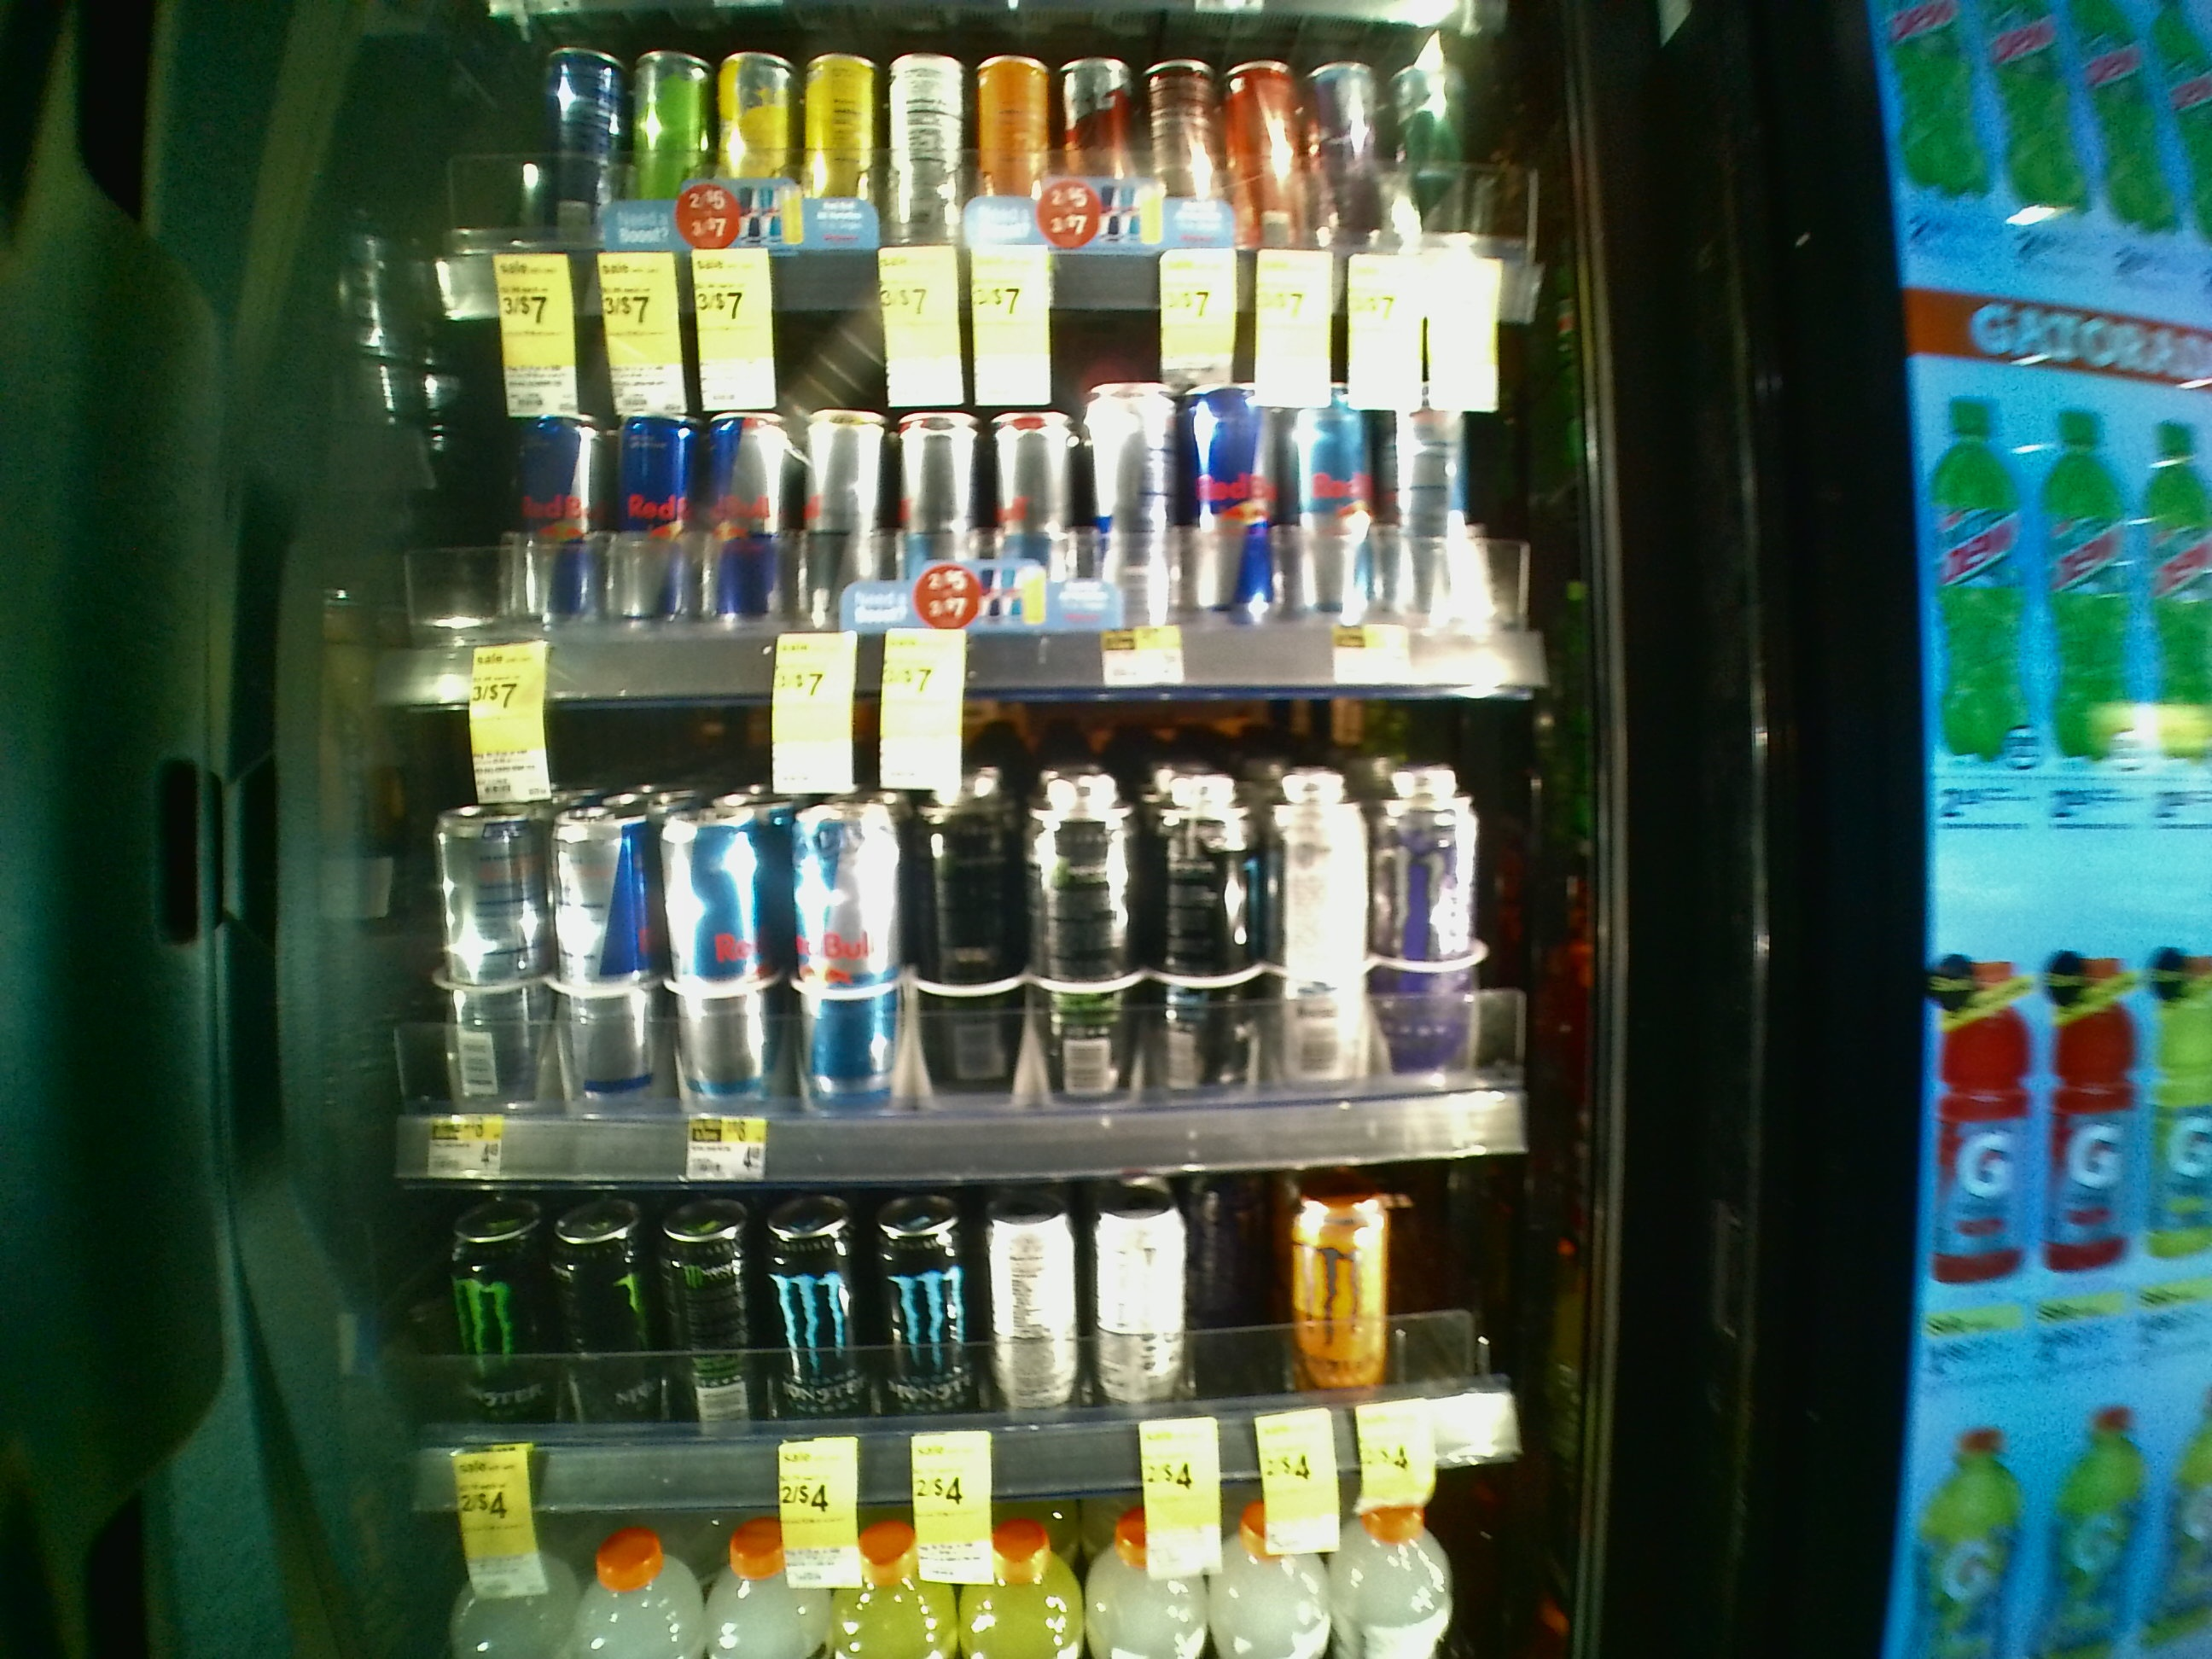shelf: (340, 704, 1634, 1143), (343, 251, 1615, 683)
